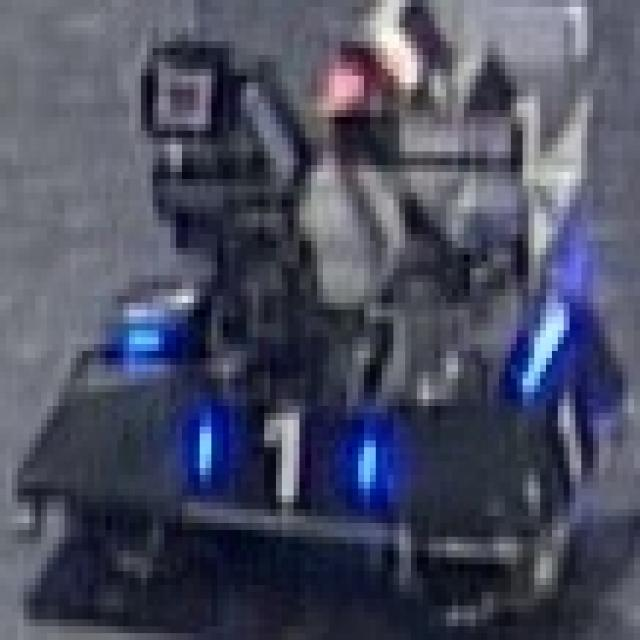B1: (188, 400, 382, 502)
